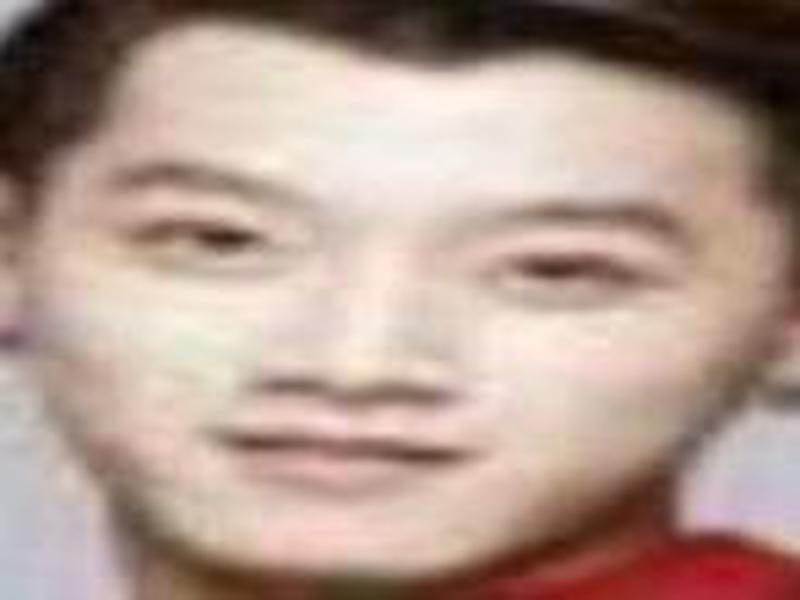without_mask: (31, 53, 763, 580)
